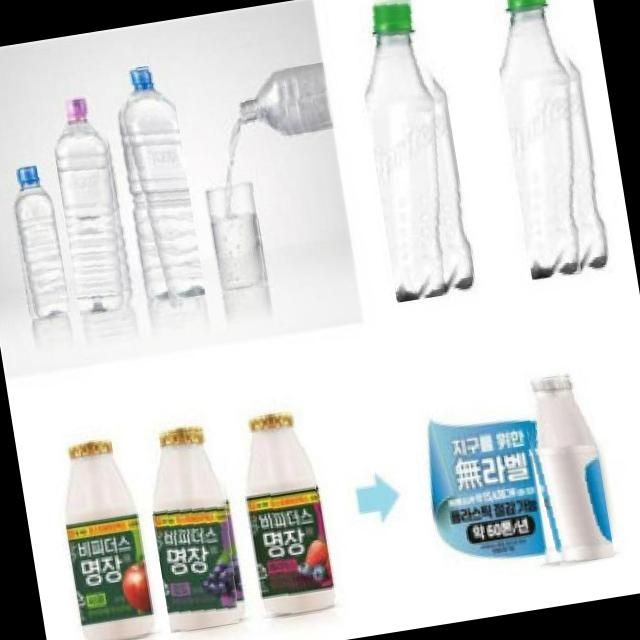plastic bottle: (349, 0, 475, 303), (485, 0, 611, 280), (110, 60, 206, 304), (140, 424, 248, 634), (54, 437, 158, 640), (235, 410, 335, 618), (514, 369, 616, 568), (47, 96, 136, 316), (2, 163, 70, 320), (233, 62, 334, 143), (206, 179, 270, 295)
